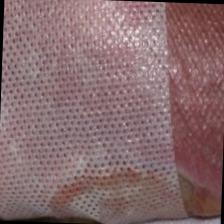wound-ulser: (46, 156, 222, 224)
